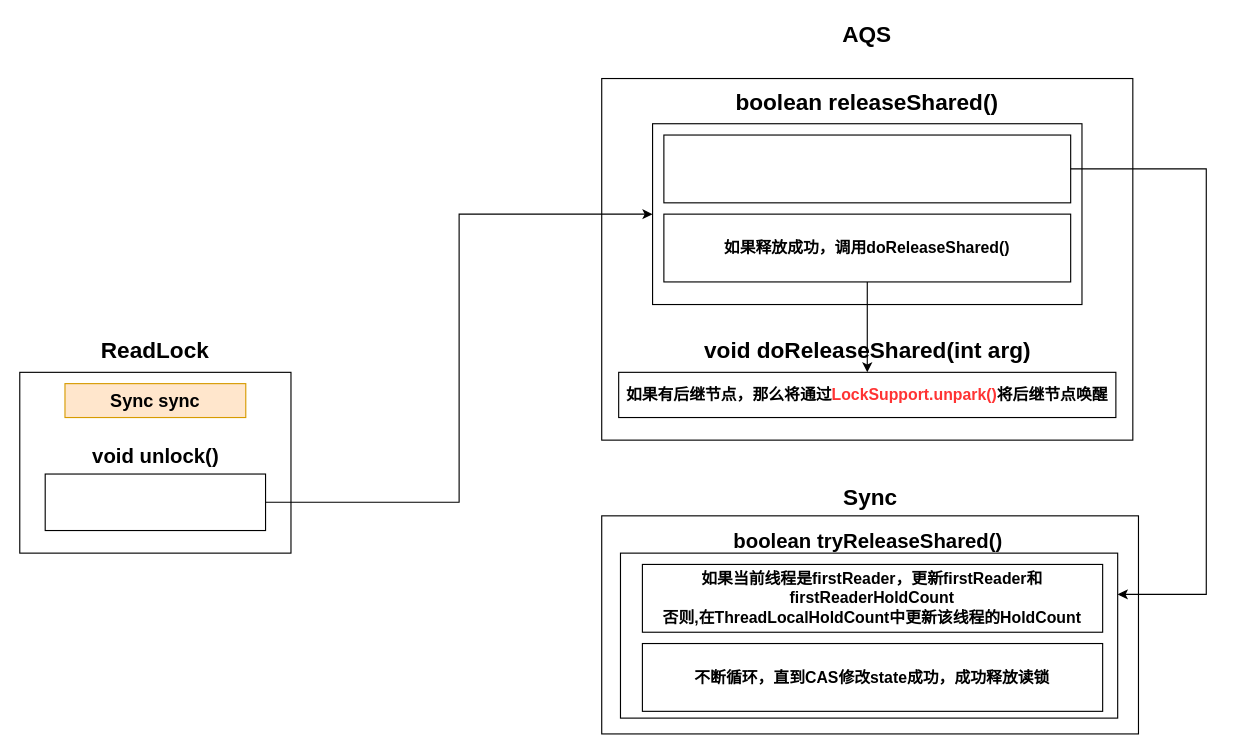
Some shapes in this 1235 by 754 pixel diagram are drawn without their labels. The shapes that lost their labels are listed below. From the top down, each one's box as (x1, y1, x2, y2) in pixels, then its label:
(663, 134, 1071, 203): 调用 tryReleaseShared(arg)(由子类实现) 尝试释放共享锁 如果释放失败，返回false
(44, 473, 266, 531): sync.releaseShared(1)
